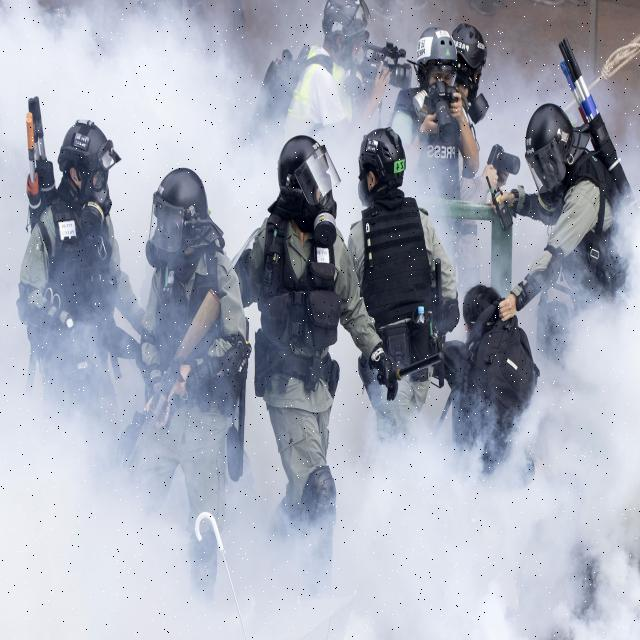police: (214, 128, 373, 588), (12, 94, 153, 542), (120, 148, 248, 601), (342, 116, 455, 472), (514, 30, 635, 345)
